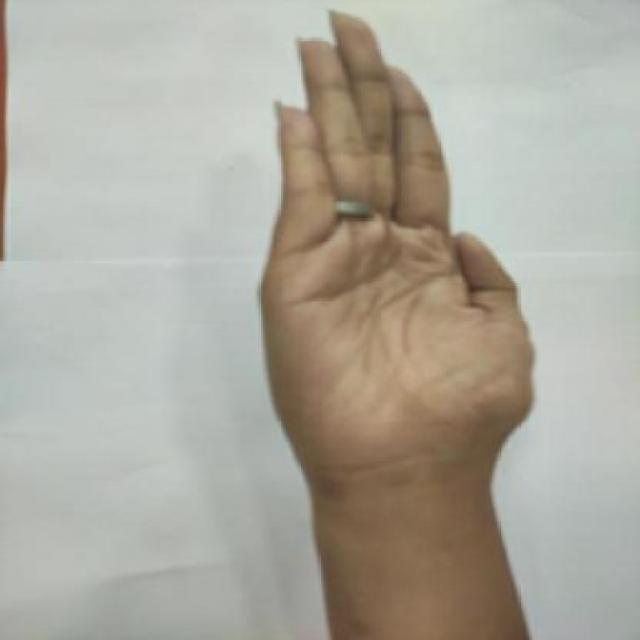without_gloves: (203, 4, 571, 548)
